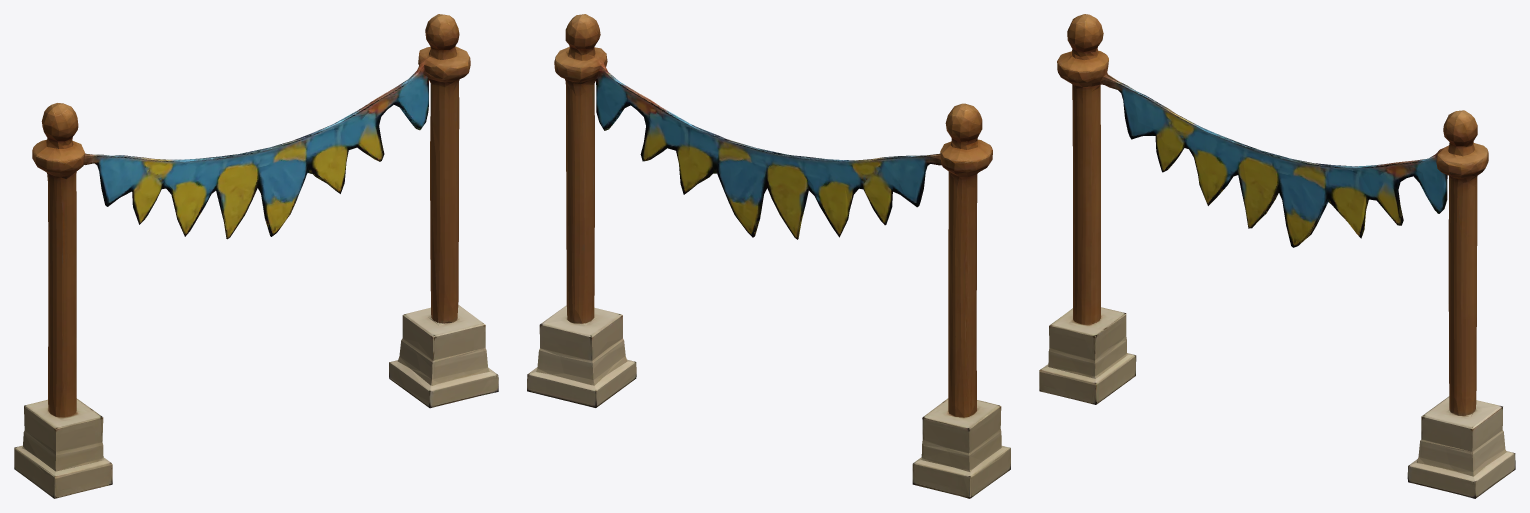
File: poles_decoration.glb
3 views of the same model, side by side, from view 1: azimuth 30°, elevation 25°; view 2: azimuth 150°, elevation 25°; view 3: azimuth 330°, elevation 25° (orthographic).
Visible parts, largest first — view 1: geometry_0; view 2: geometry_0; view 3: geometry_0.
Part boxes in pixels (bbox=[...]): geometry_0: bbox=[14, 14, 498, 498]; geometry_0: bbox=[527, 14, 1010, 498]; geometry_0: bbox=[1039, 14, 1515, 498].
Size of the model in its own units: 0.644 by 0.5191 by 0.1032.
Materials: 1 (1 with a texture image).
